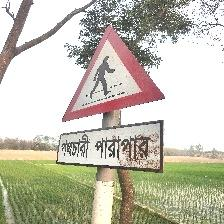Pedestrian-crossing: (57, 23, 167, 179)
